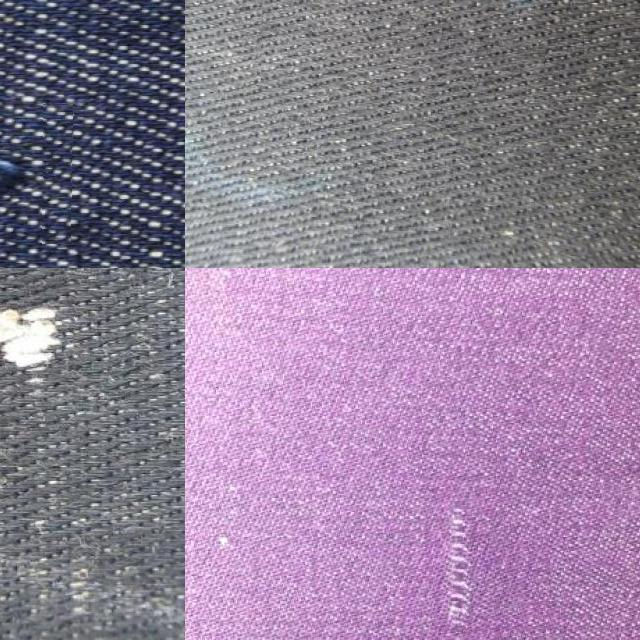stains: (0, 268, 131, 415), (261, 0, 419, 85), (0, 100, 73, 241), (433, 487, 500, 640)
